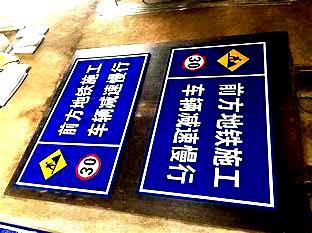sign: (153, 46, 275, 203), (50, 55, 122, 191)
